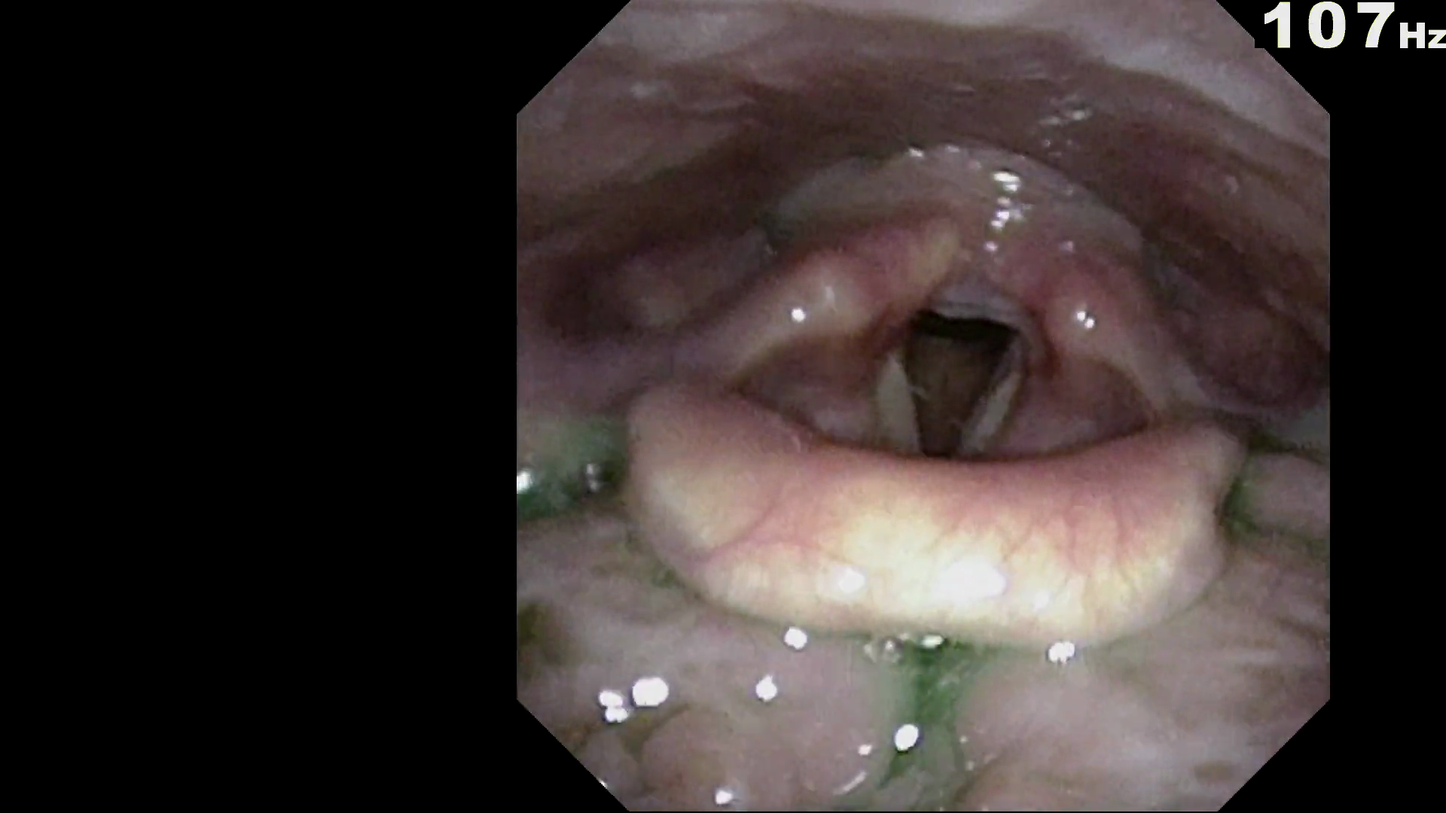epiglottis: (599, 373, 1272, 636), (602, 489, 1226, 761)
trachea: (901, 296, 1022, 458)
